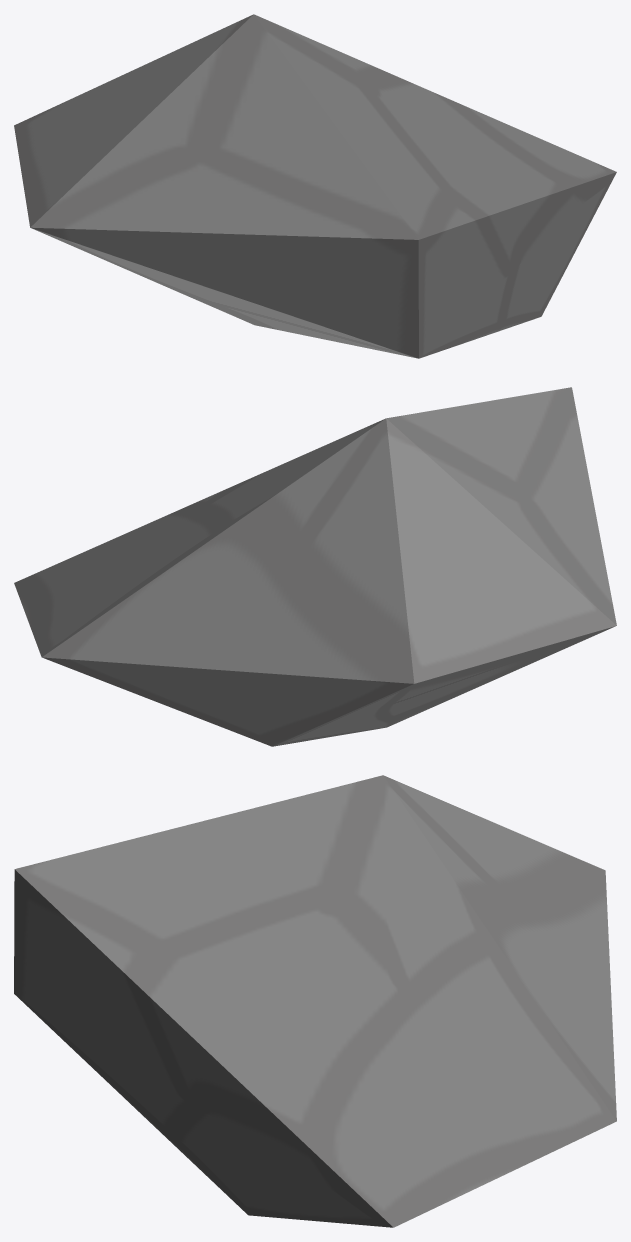
Rendered from Stone02_LP.fbx.
The picture shows the model from 3 angles, top to bottom: view 1: azimuth 30°, elevation 25°; view 2: azimuth 150°, elevation 25°; view 3: azimuth 270°, elevation 25°; orthographic projection. The views are drawn at different scales.
Parts seen in each view (by area): view 1: SmallRock; view 2: SmallRock; view 3: SmallRock.
Boxes of the visible parts, box(x1,y1,x2,y2) form: SmallRock: box(14, 14, 616, 358); SmallRock: box(14, 387, 616, 746); SmallRock: box(14, 775, 616, 1227).
Size of the model in its own units: 5.46 by 2.72 by 4.56.
